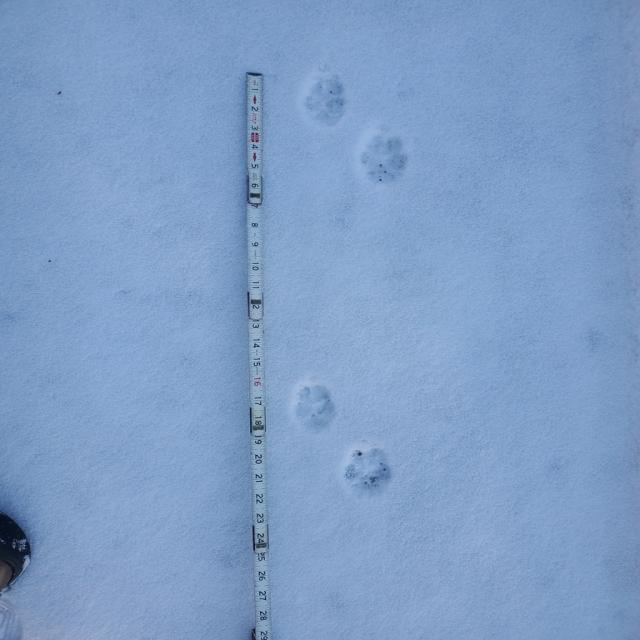canid: (344, 446, 398, 502), (360, 134, 412, 185), (302, 76, 350, 125), (295, 385, 337, 433)
